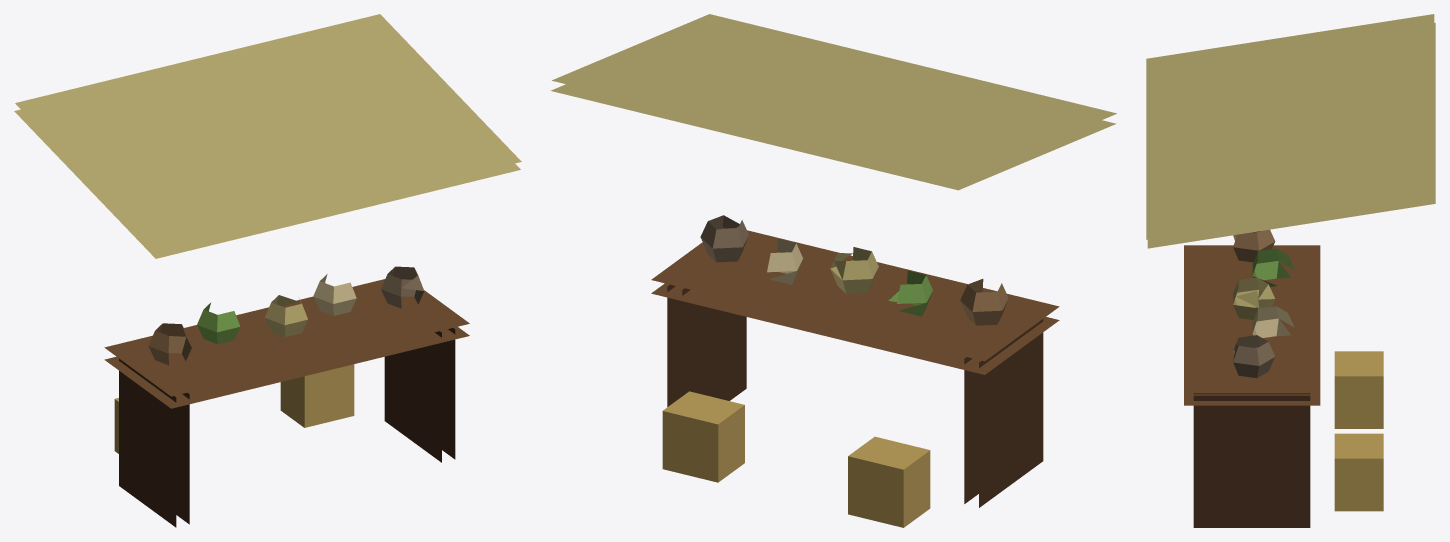
Rendered from prop_market_stall_lod1.glb.
3 renders of one model, left to right at view 1: azimuth 30°, elevation 25°; view 2: azimuth 150°, elevation 25°; view 3: azimuth 270°, elevation 25°, orthographic. The views are drawn at different scales.
Parts seen in each view (by area): view 1: prop_market_stall_lod1; view 2: prop_market_stall_lod1; view 3: prop_market_stall_lod1.
Part boxes in pixels (x1,y1,x2,y2): prop_market_stall_lod1: [14, 14, 521, 527]; prop_market_stall_lod1: [550, 14, 1116, 527]; prop_market_stall_lod1: [1146, 14, 1435, 527].
Bounding box in the file's own units: 2.2 × 2.01 × 1.49.
